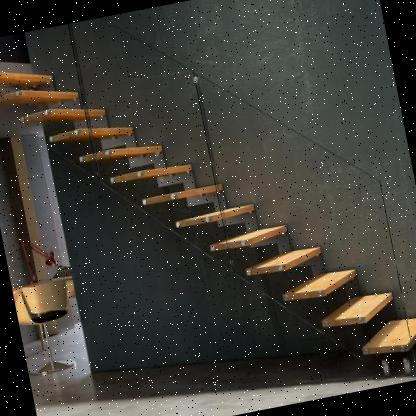stair: (0, 10, 285, 286), (246, 203, 416, 380)
